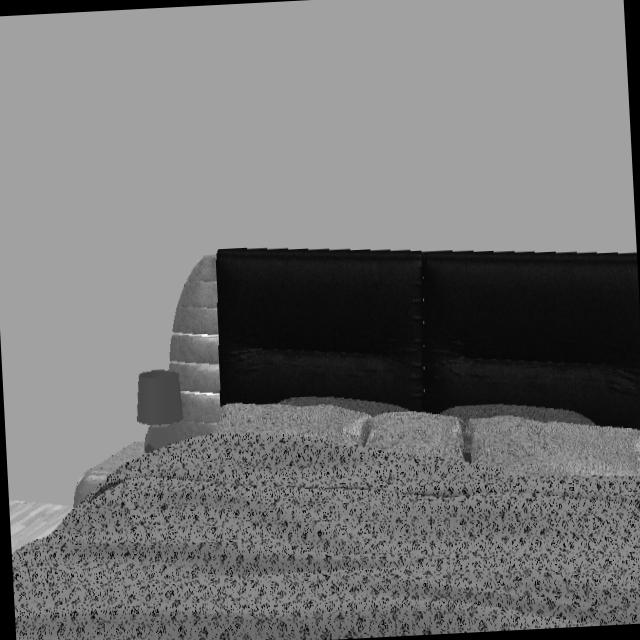bed: (13, 401, 640, 640)
lamp: (136, 371, 185, 454)
nighttable: (72, 443, 147, 508)
pillow: (217, 399, 640, 469)
